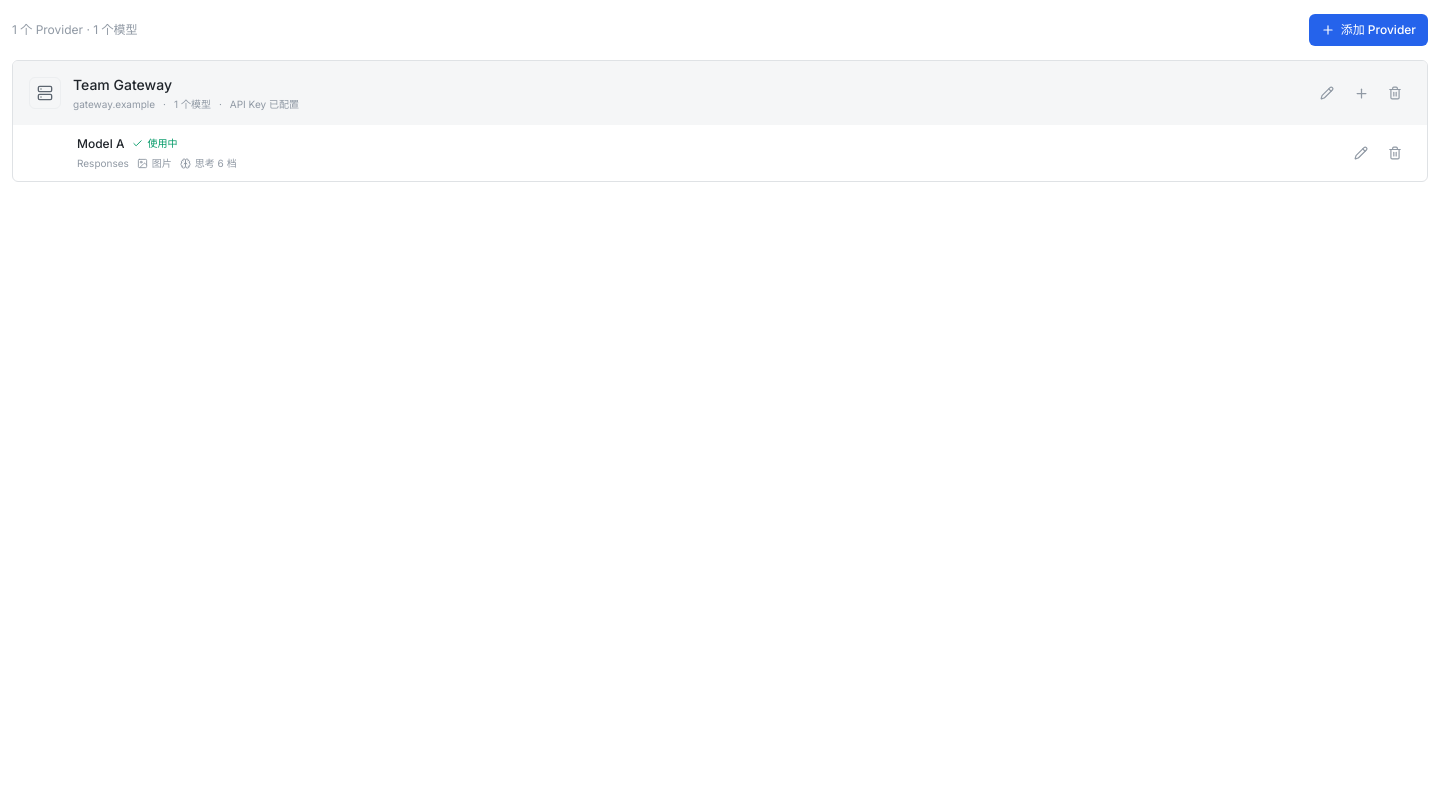
Test: ProviderPanel › opens an existing model in the independent model editor
The width and height of the screenshot is (1440, 810).
Step 1. Click the button named "编辑 Model A" → click(1361, 153), box [1345,137,1377,169]
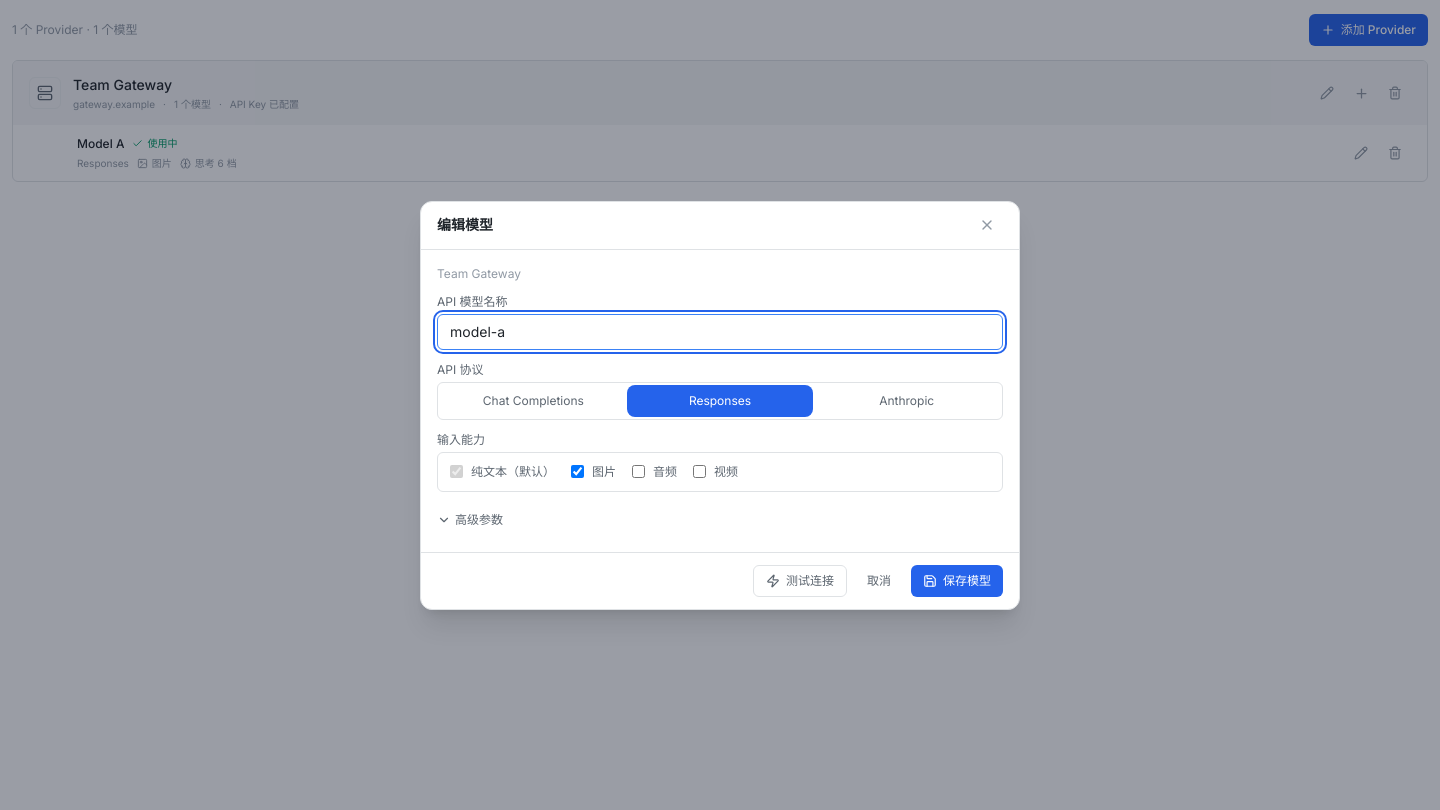
Now the dialog "编辑模型" is shown, box [420,200,1020,610]
Now the field labelled "API 模型名称" holds "model-a", box [437,314,1003,350]
Now the checkbox labelled "图片" is checked, box [571,465,584,478]
